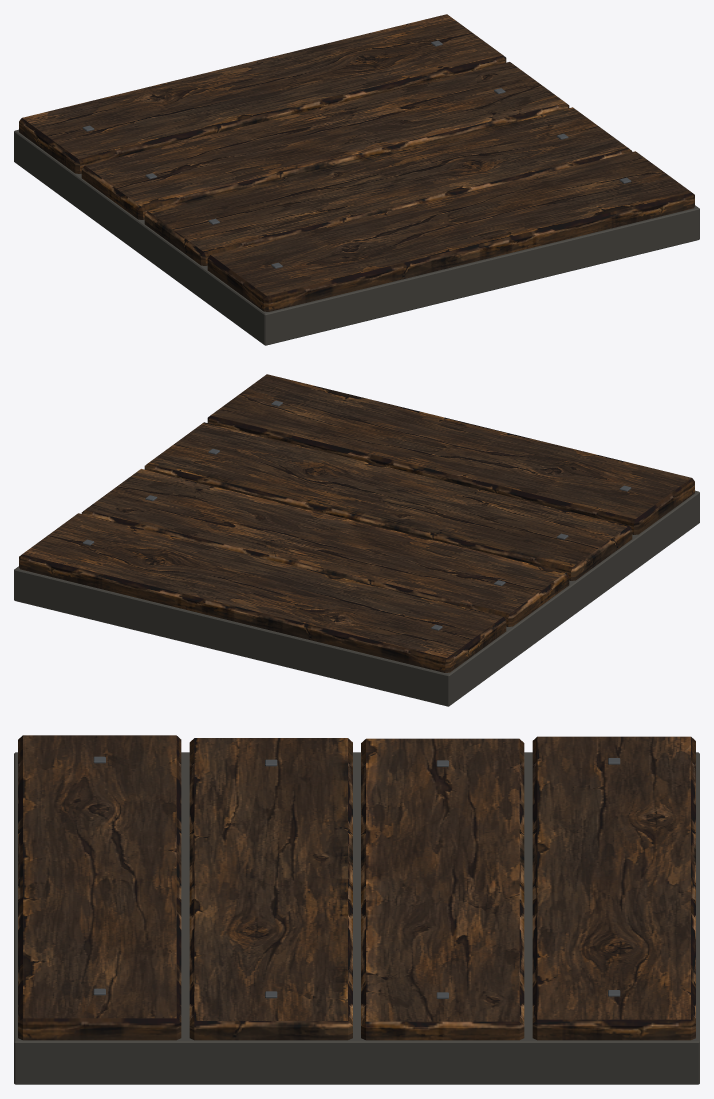
The model's file is floor_wood_a.glb.
3 views of the same model, one above another, from view 1: azimuth 30°, elevation 25°; view 2: azimuth 150°, elevation 25°; view 3: azimuth 270°, elevation 25° (orthographic). The views are drawn at different scales.
Visible parts, largest first — view 1: floor_wood_a; view 2: floor_wood_a; view 3: floor_wood_a.
Boxes of the visible parts, x1,y1,x2,y2 form: floor_wood_a: (14, 14, 699, 345); floor_wood_a: (14, 374, 699, 706); floor_wood_a: (14, 735, 699, 1084).
Size of the model in its own units: 1 by 0.1052 by 1.
Materials: 3 (1 with a texture image).
